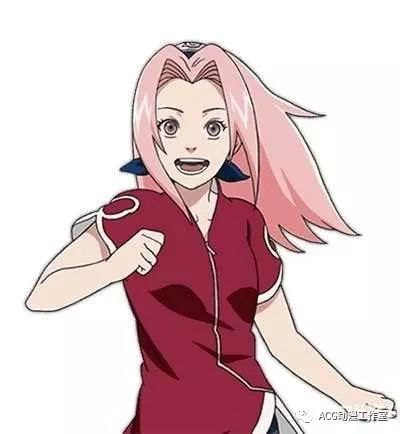sakura: (136, 39, 246, 192)
